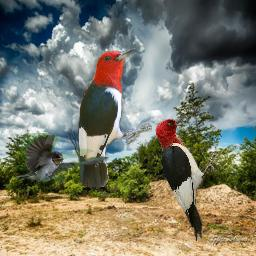Swallow: (16, 133, 109, 182)
Woodpecker: (77, 48, 152, 187), (154, 114, 219, 241)
